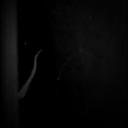fish: (18, 48, 42, 101)
